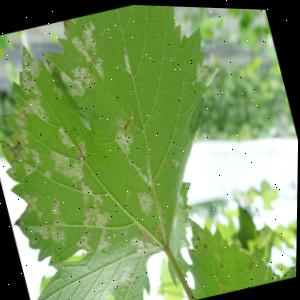Folha: (0, 0, 276, 300), (147, 188, 298, 300)
Fungo: (26, 216, 70, 254), (80, 201, 114, 233), (47, 145, 75, 181), (58, 65, 85, 101), (24, 92, 51, 127), (69, 61, 98, 93), (113, 124, 138, 158), (77, 19, 101, 54), (17, 68, 42, 99), (64, 157, 88, 188), (112, 108, 138, 134), (135, 187, 157, 217), (54, 123, 75, 150), (192, 58, 212, 83), (71, 136, 89, 163), (93, 231, 114, 254), (49, 223, 68, 248), (90, 54, 108, 80), (77, 179, 95, 205), (22, 189, 41, 213), (120, 186, 137, 210), (119, 44, 132, 74), (35, 222, 51, 242), (48, 196, 63, 217), (151, 220, 164, 239), (192, 227, 207, 242), (52, 82, 64, 100), (92, 192, 105, 208), (157, 200, 167, 220), (120, 117, 133, 131), (169, 155, 181, 169), (248, 259, 257, 271), (142, 229, 150, 240), (44, 168, 52, 179), (203, 241, 209, 250), (39, 131, 43, 138)
